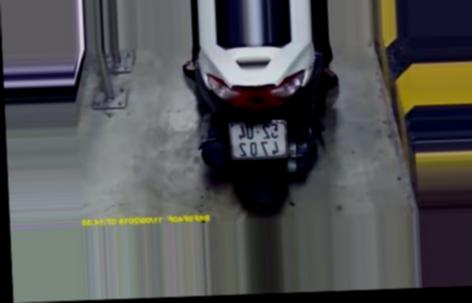License_Plate: (226, 114, 294, 166)
